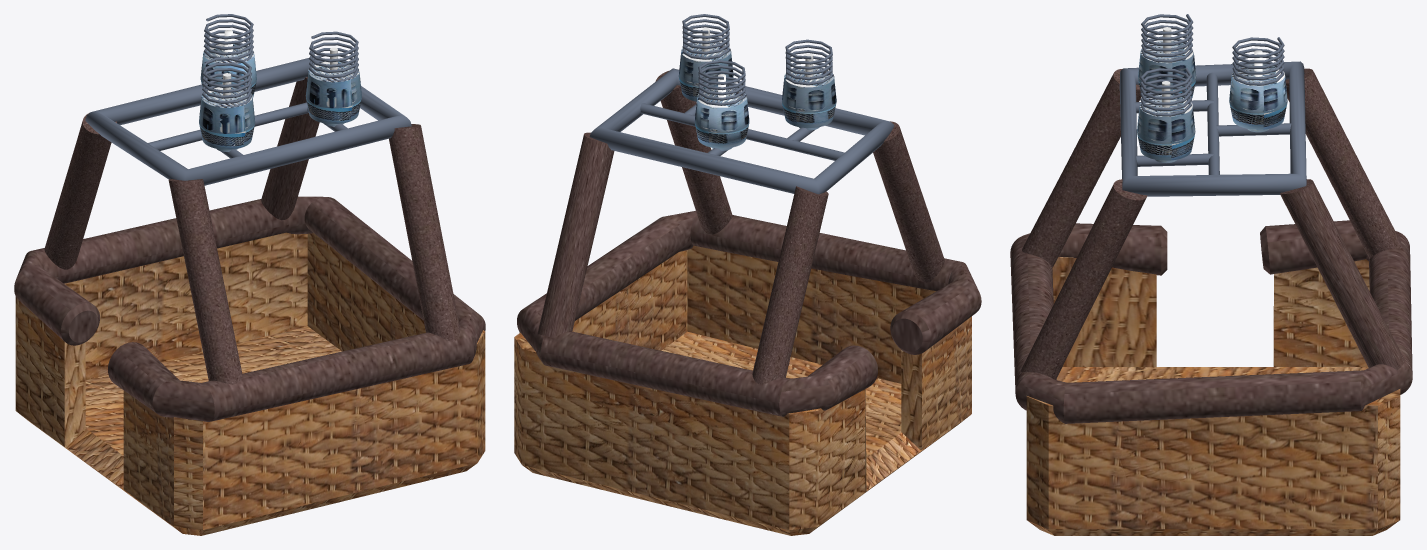
File: basket.glb
3 renders of one model, left to right at view 1: azimuth 30°, elevation 25°; view 2: azimuth 150°, elevation 25°; view 3: azimuth 270°, elevation 25°, orthographic. The views are drawn at different scales.
Parts seen in each view (by area): view 1: Cube, Cylinder, Plane.001, Cylinder.003, Cylinder.004, Cylinder.002, Cylinder.001, Cylinder.006, Cylinder.007, Coil.002, Coil.001, Coil (+2 smaller); view 2: Cube, Cylinder, Plane.001, Cylinder.001, Cylinder.002, Cylinder.004, Cylinder.003, Cylinder.006, Cylinder.005, Cylinder.007, Plane, Coil (+2 smaller); view 3: Cube, Cylinder, Plane.001, Cylinder.003, Cylinder.001, Cylinder.004, Cylinder.002, Cylinder.007, Cylinder.005, Coil.002, Coil.001, Coil (+4 smaller).
Boxes of the visible parts, bbox=[...] form: Cube: bbox=[15, 232, 485, 535]; Cylinder: bbox=[14, 196, 485, 421]; Plane.001: bbox=[85, 58, 411, 185]; Cylinder.003: bbox=[389, 124, 460, 341]; Cylinder.004: bbox=[168, 179, 242, 384]; Cylinder.002: bbox=[44, 113, 116, 269]; Cylinder.001: bbox=[261, 77, 319, 220]; Cylinder.006: bbox=[199, 73, 255, 151]; Cylinder.007: bbox=[305, 47, 361, 126]; Coil.002: bbox=[309, 31, 358, 81]; Coil.001: bbox=[202, 57, 251, 106]; Coil: bbox=[203, 14, 253, 63]; Cube: bbox=[514, 245, 971, 535]; Cylinder: bbox=[517, 210, 981, 416]; Plane.001: bbox=[589, 68, 894, 194]; Cylinder.001: bbox=[537, 132, 614, 337]; Cylinder.002: bbox=[752, 186, 828, 384]; Cylinder.004: bbox=[873, 121, 944, 282]; Cylinder.003: bbox=[655, 70, 732, 234]; Cylinder.006: bbox=[782, 53, 836, 130]; Cylinder.005: bbox=[694, 74, 749, 150]; Cylinder.007: bbox=[678, 28, 733, 102]; Plane: bbox=[640, 103, 844, 160]; Coil: bbox=[698, 60, 745, 105]; Cube: bbox=[1026, 257, 1400, 535]; Cylinder: bbox=[1010, 220, 1412, 423]; Plane.001: bbox=[1119, 61, 1306, 196]; Cylinder.003: bbox=[1021, 179, 1147, 379]; Cylinder.001: bbox=[1280, 179, 1404, 370]; Cylinder.004: bbox=[1022, 69, 1141, 267]; Cylinder.002: bbox=[1285, 68, 1402, 258]; Cylinder.007: bbox=[1137, 81, 1195, 162]; Cylinder.005: bbox=[1229, 50, 1287, 132]; Coil.002: bbox=[1140, 68, 1192, 116]; Coil.001: bbox=[1141, 14, 1193, 62]; Coil: bbox=[1232, 37, 1284, 85].
Size of the model in its own units: 2.15 by 2.48 by 2.15.
Materials: 6 (5 with a texture image).
